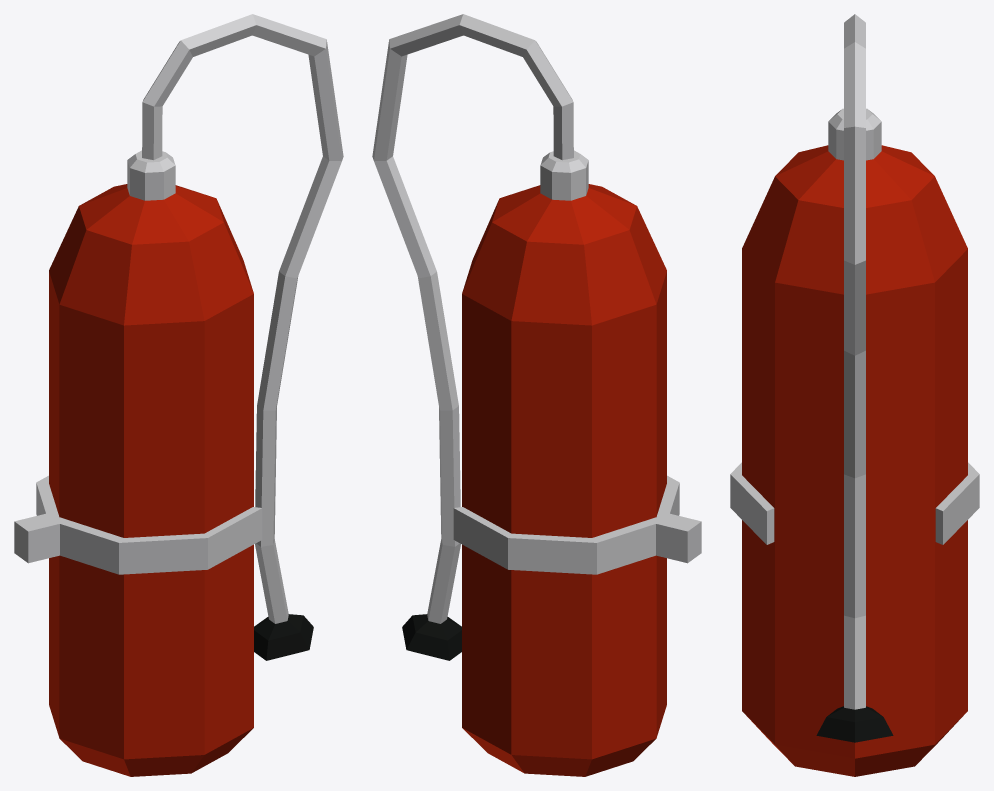
The model's file is Gasnica.fbx.
3 renders of one model, left to right at view 1: azimuth 30°, elevation 25°; view 2: azimuth 150°, elevation 25°; view 3: azimuth 270°, elevation 25°, orthographic. The views are drawn at different scales.
Parts seen in each view (by area): view 1: Gasnica, UchwytGasnicy; view 2: Gasnica, UchwytGasnicy; view 3: Gasnica, UchwytGasnicy.
Boxes of the visible parts, bbox=[...] form: Gasnica: bbox=[49, 14, 343, 776]; UchwytGasnicy: bbox=[14, 475, 262, 574]; Gasnica: bbox=[372, 14, 666, 776]; UchwytGasnicy: bbox=[453, 475, 701, 574]; Gasnica: bbox=[742, 14, 967, 776]; UchwytGasnicy: bbox=[730, 462, 979, 544].
Bounding box in the file's own units: 50.4 × 108 × 31.69.
Materials: 1 (1 with a texture image).
